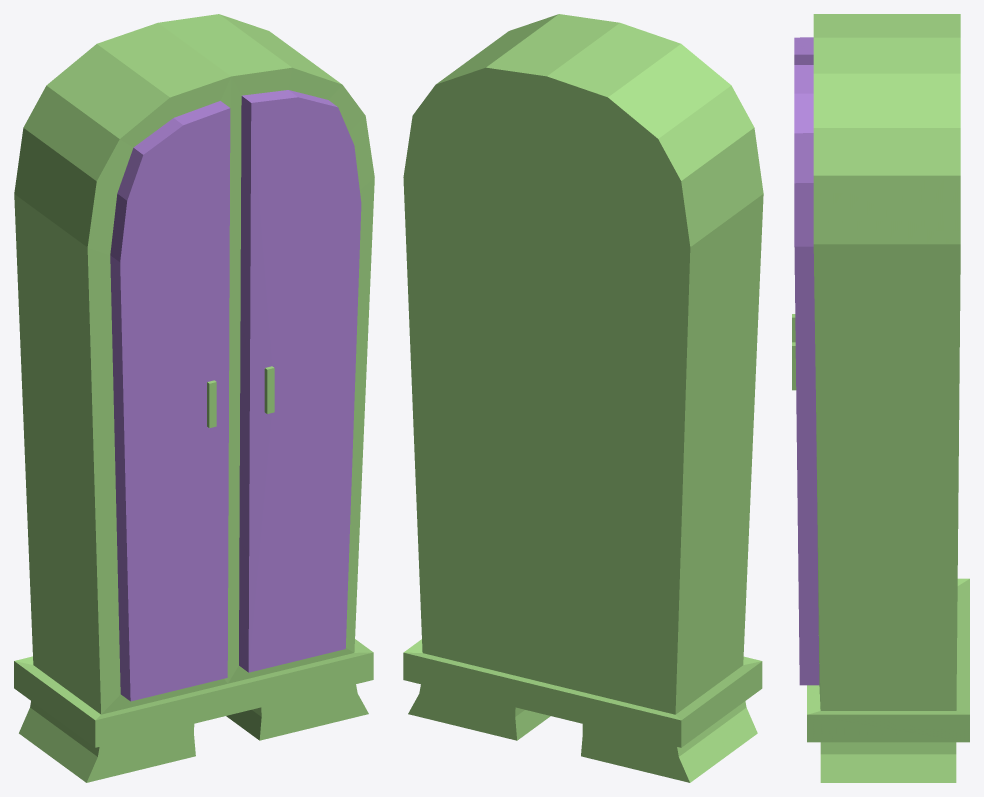
Rendered from Closet.glb.
The picture shows the model from 3 angles, left to right: view 1: azimuth 30°, elevation 25°; view 2: azimuth 150°, elevation 25°; view 3: azimuth 270°, elevation 25°; orthographic projection.
Visible parts, largest first — view 1: Closet1_0, Closet1_1; view 2: Closet1_1; view 3: Closet1_1, Closet1_0.
Boxes of the visible parts, x1,y1,x2,y2 form: Closet1_0: [110, 90, 361, 701]; Closet1_1: [14, 14, 374, 782]; Closet1_1: [403, 14, 763, 782]; Closet1_1: [792, 14, 969, 782]; Closet1_0: [794, 37, 819, 685].
Size of the model in its own units: 0.6604 by 1.48 by 0.3532.
